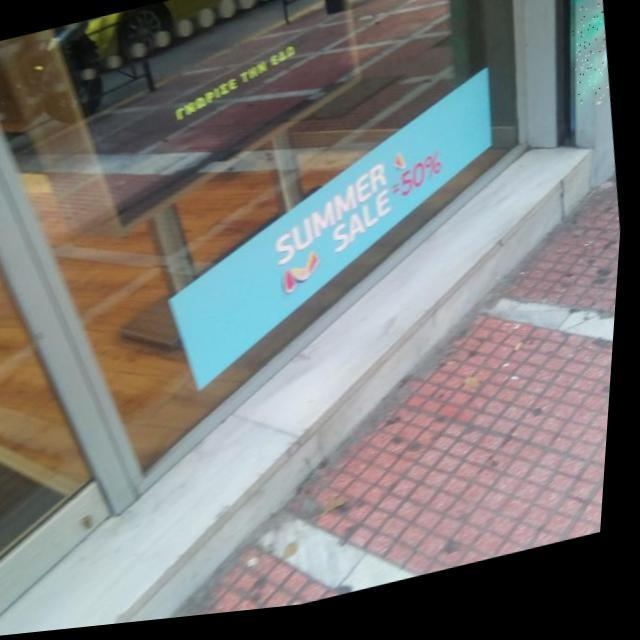-: (562, 0, 620, 118)
